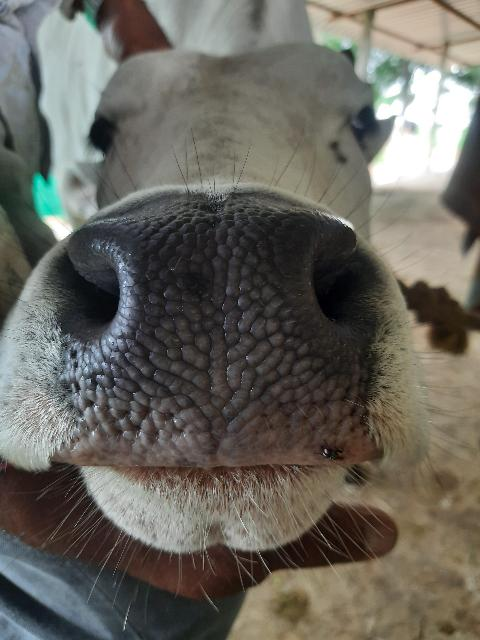Muzzle: (105, 216, 324, 464)
